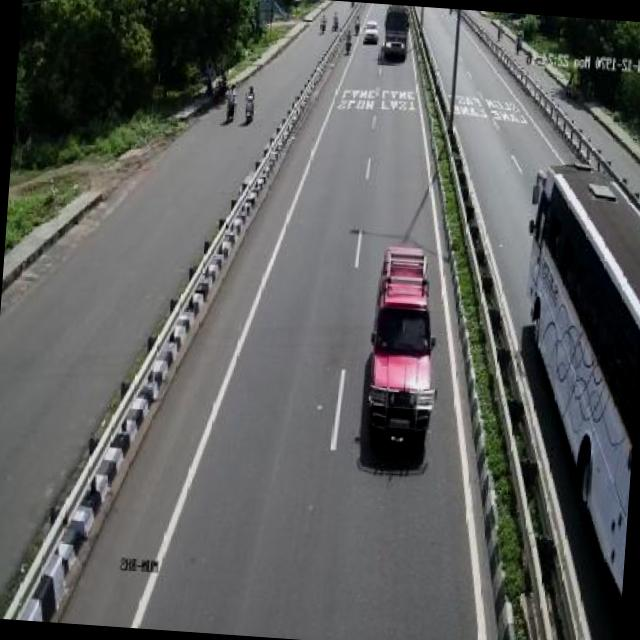car: (378, 5, 409, 64)
